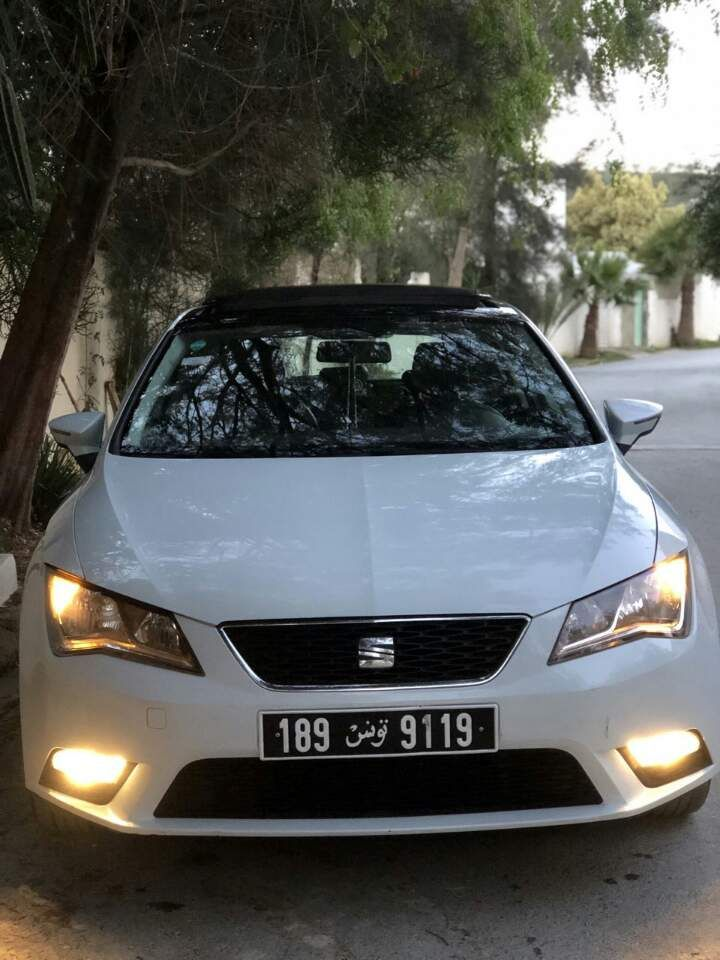LP: (257, 704, 499, 759)
